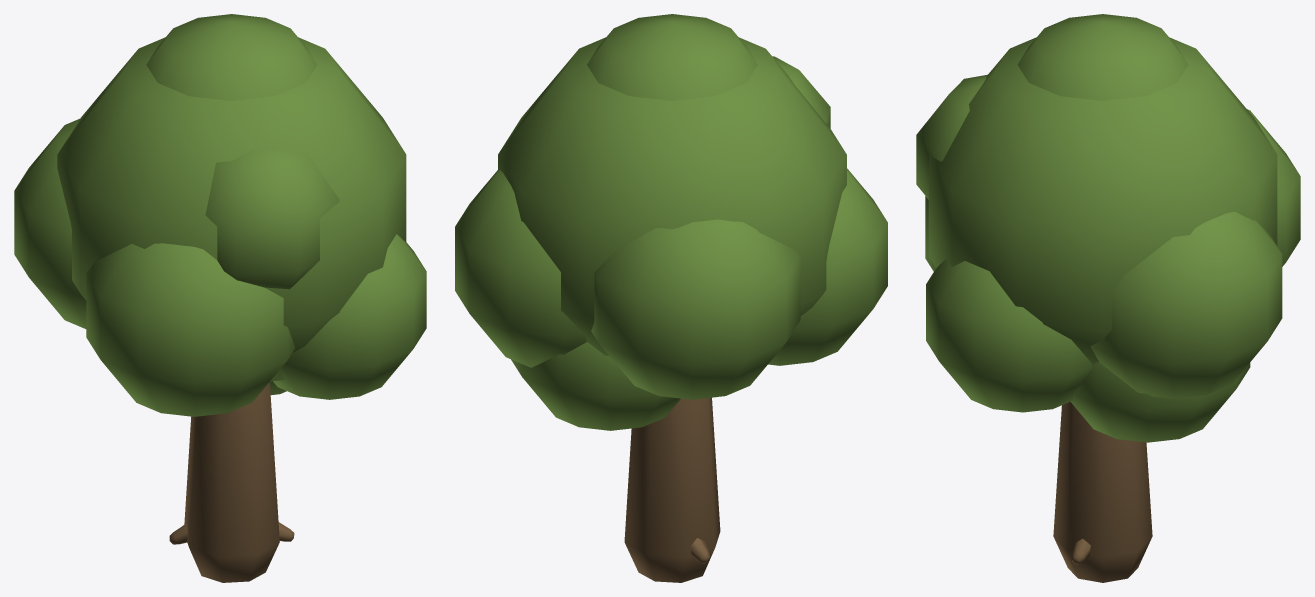
The model's file is prop_oak4_b832.glb.
3 views of the same model, side by side, from view 1: azimuth 30°, elevation 25°; view 2: azimuth 150°, elevation 25°; view 3: azimuth 270°, elevation 25° (orthographic).
Visible parts, largest first — view 1: prop_oak4_b832; view 2: prop_oak4_b832; view 3: prop_oak4_b832.
Part boxes in pixels (x1=…): prop_oak4_b832: x1=14, y1=14, x2=426, y2=582; prop_oak4_b832: x1=455, y1=14, x2=887, y2=582; prop_oak4_b832: x1=916, y1=14, x2=1300, y2=582.
Size of the model in its own units: 1.37 by 2.2 by 1.37.
Materials: 1 (1 with a texture image).
